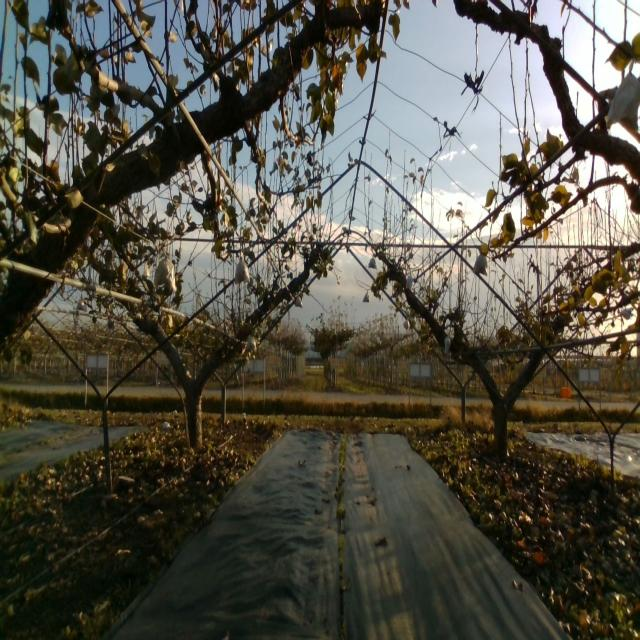pearbags: (606, 69, 640, 127), (154, 251, 176, 294), (235, 254, 250, 286), (472, 255, 487, 276)
